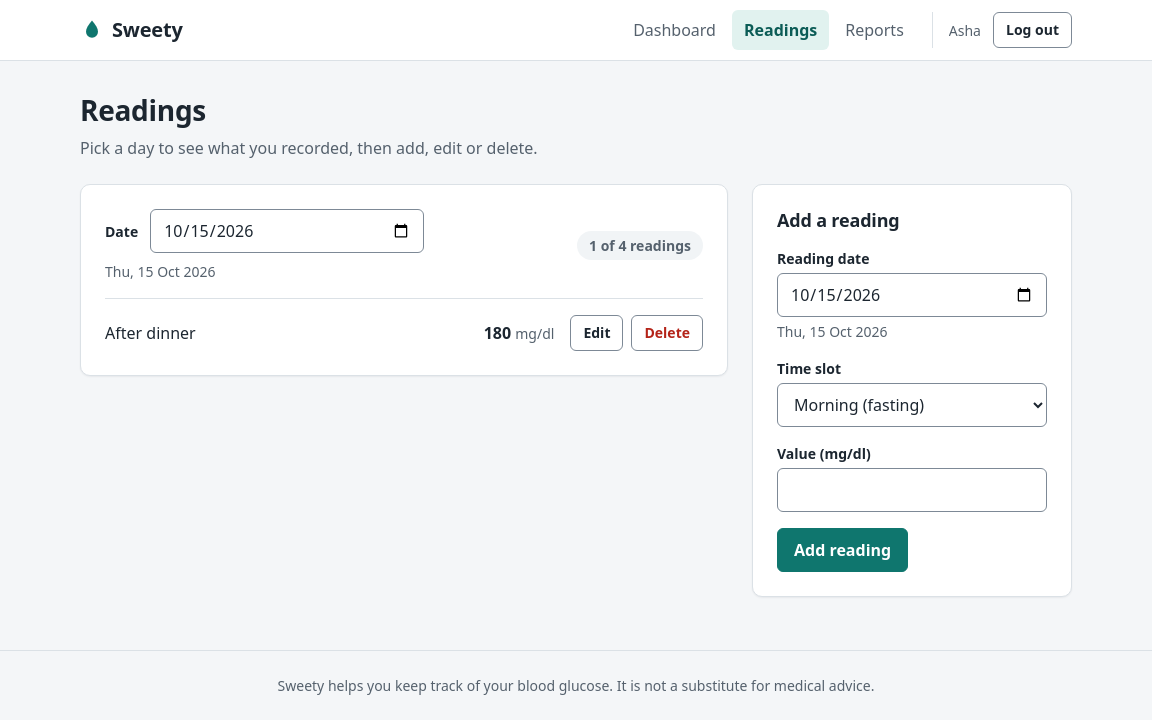
Test case: Editing and deleting readings › moves the page to the new date when an edit changes it
Check: the text "1 of 4 readings" is shown, box [577,231,703,260]
Click the button "Edit": (597, 333) [570,315,624,351]
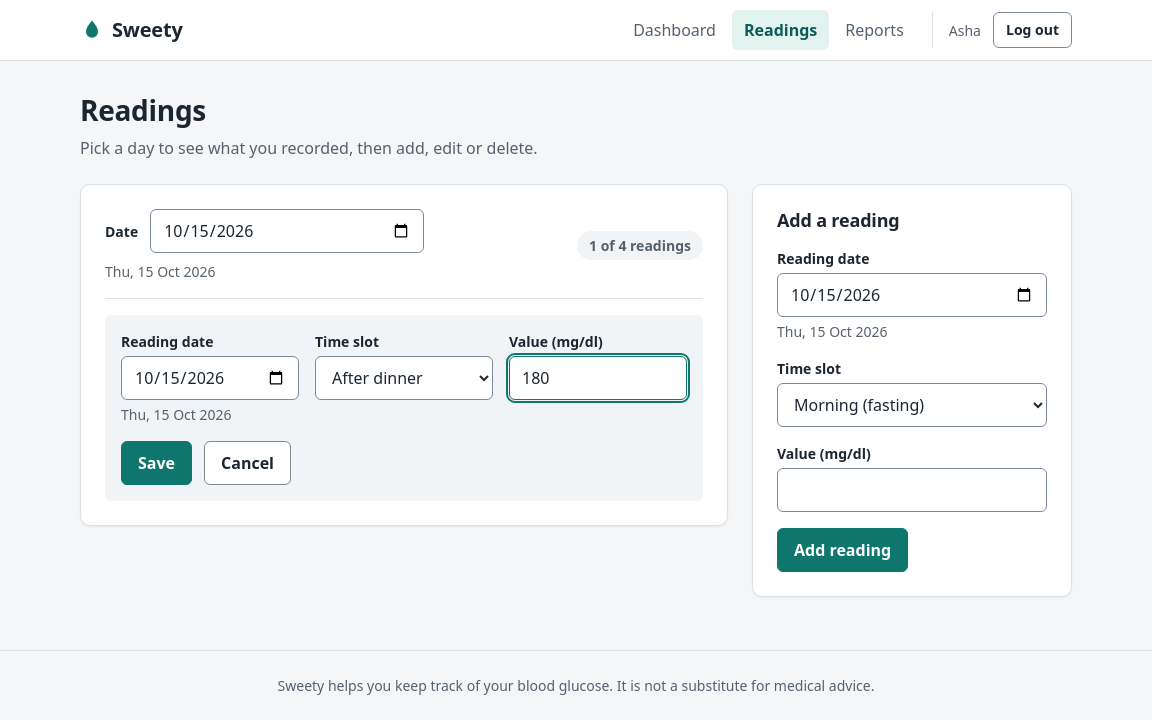
In the 2nd date field labelled "Reading date": (210, 378) [121,356,299,400], type "2026-10-01"
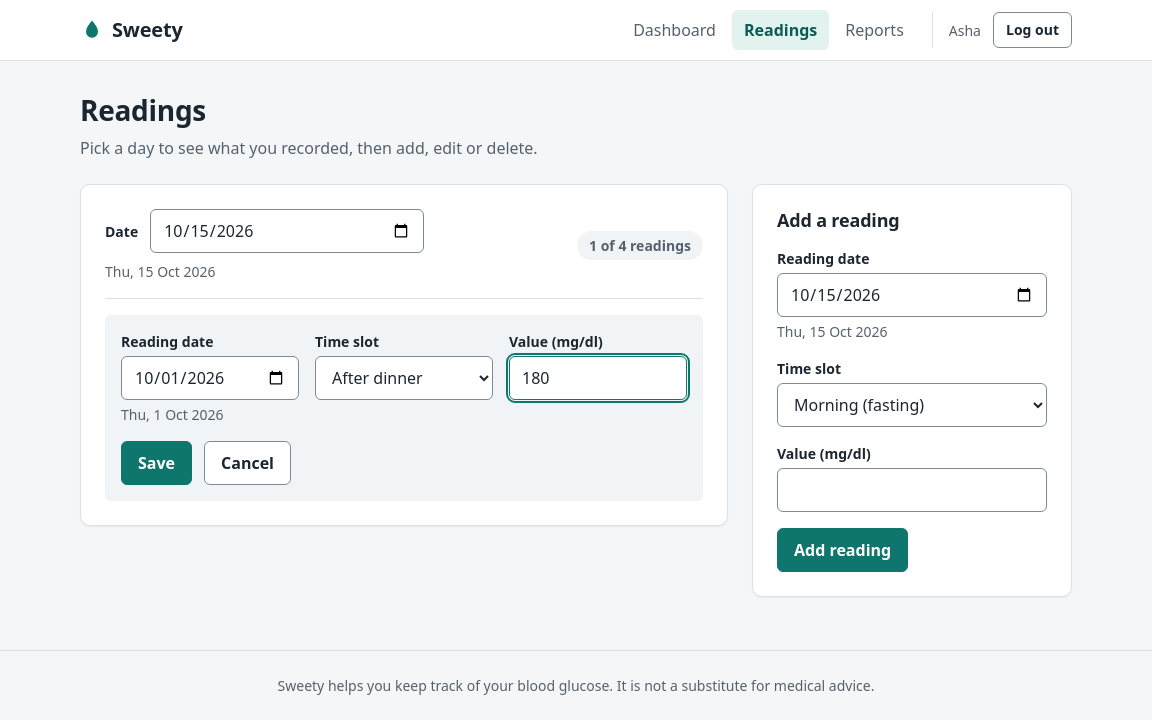
Click the button "Save": (156, 463) [121,441,192,485]
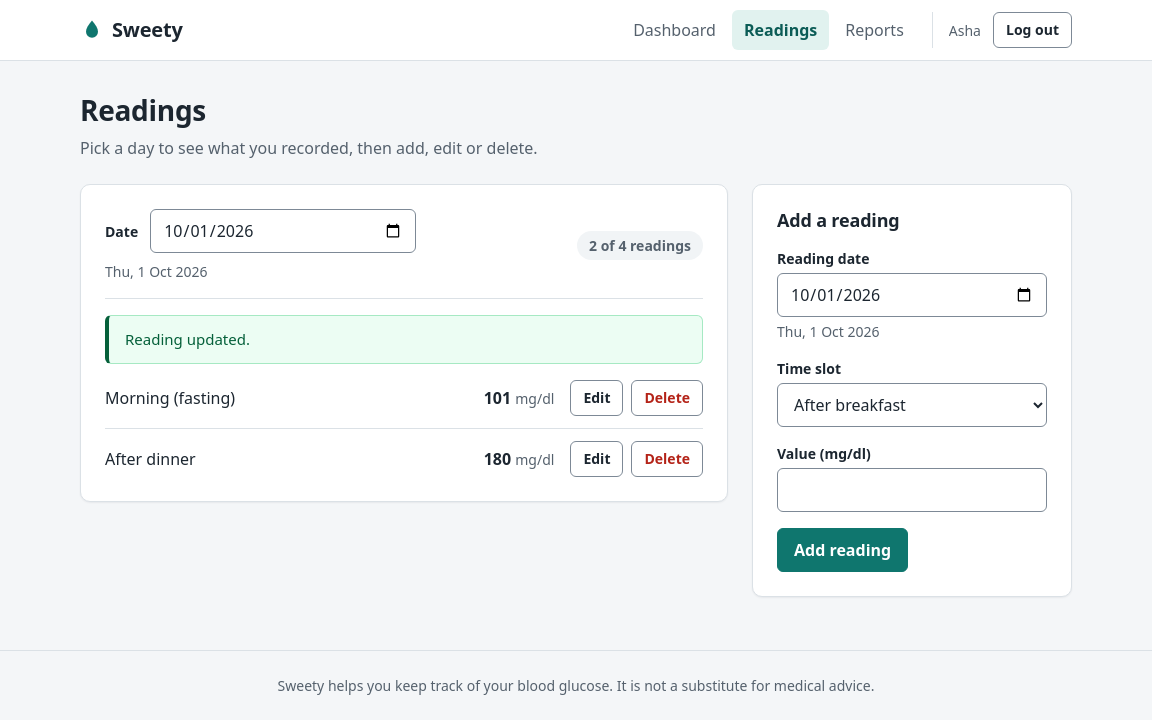
Check: the text "2 of 4 readings" is shown, box [577,231,703,260]
Check: the date field labelled "Date" holds "2026-10-01", box [150,209,416,253]
